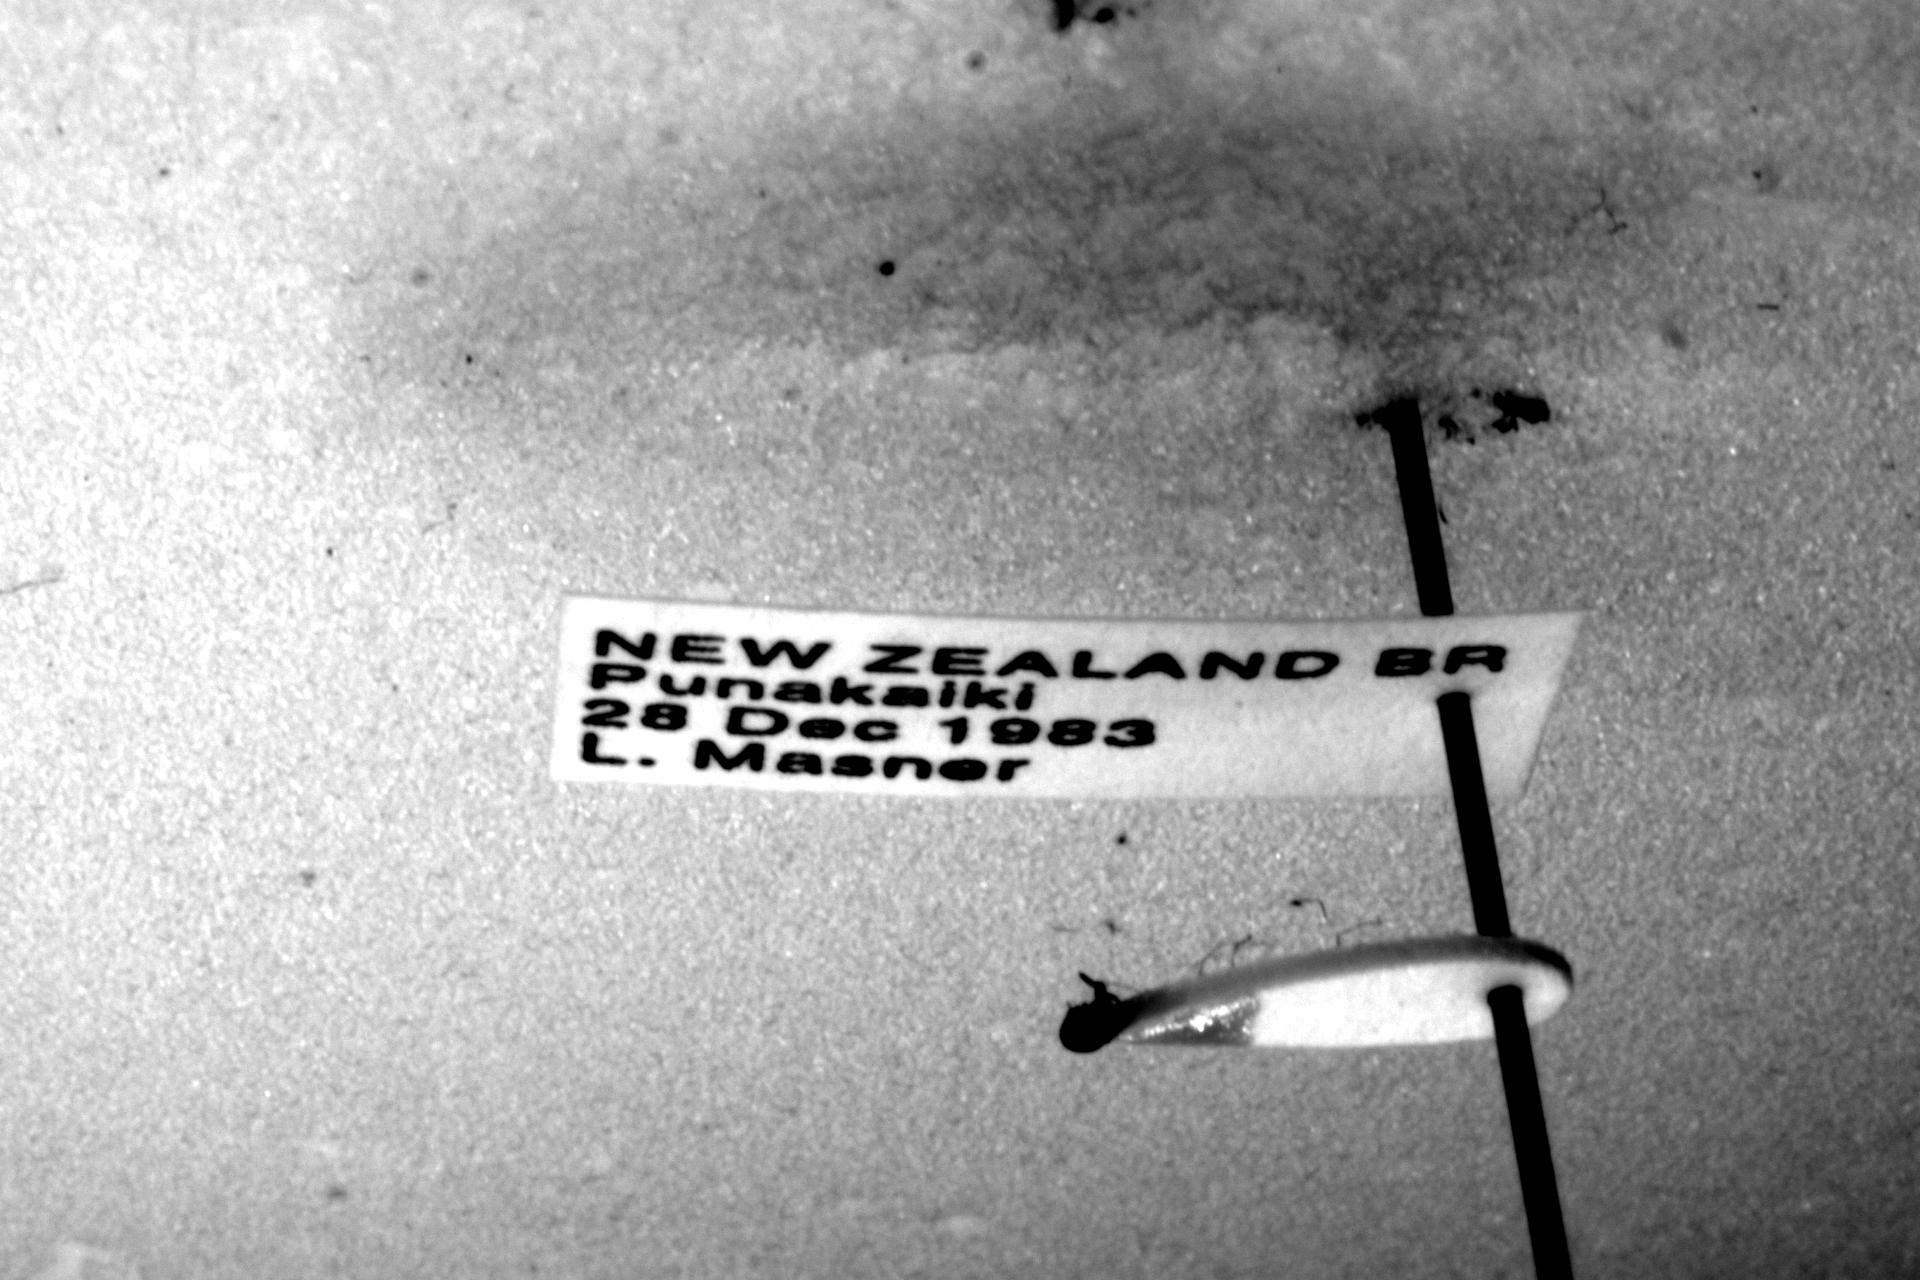typed_label: (551, 596, 1583, 799)
